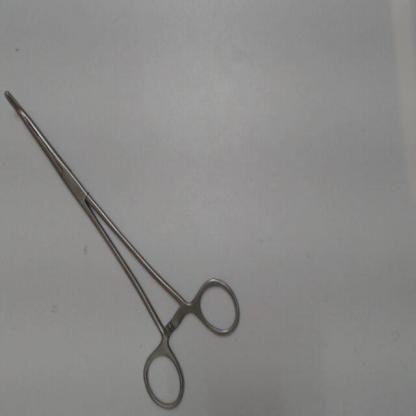Lahey Forceps: (1, 81, 246, 414)
